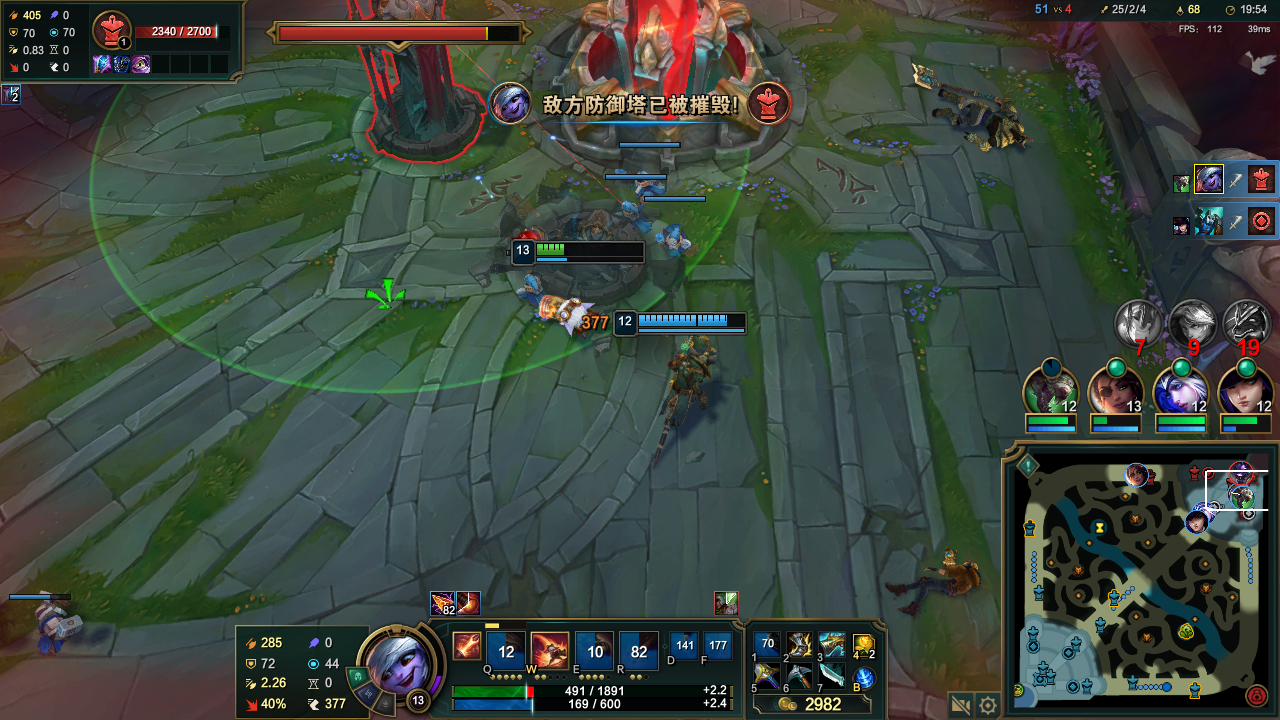DFDSJ: (589, 21, 789, 141)
DFFYT: (342, 10, 481, 159)
WFXB: (647, 213, 698, 262), (613, 186, 657, 240), (624, 162, 671, 209)
